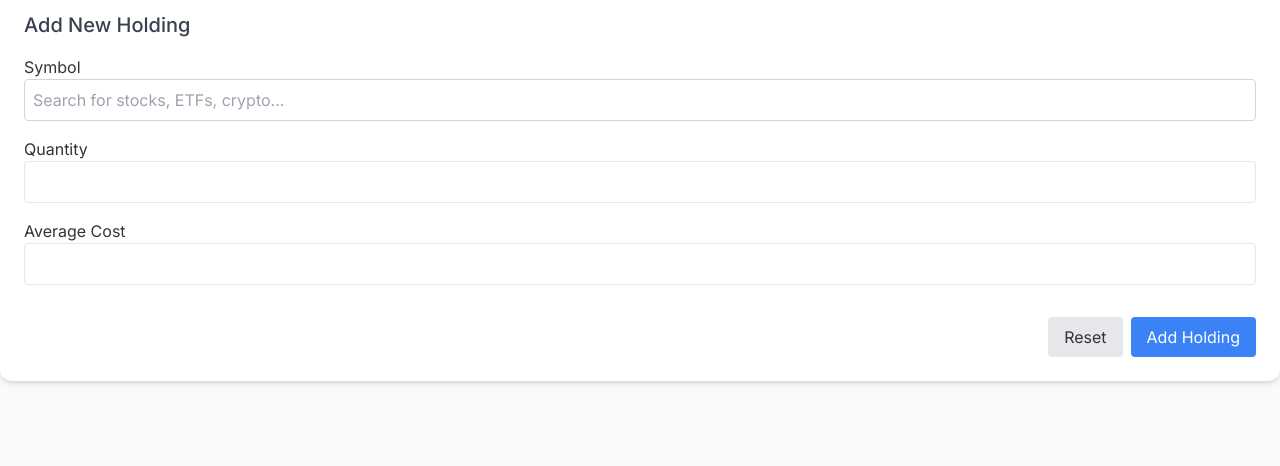
Test: AddHoldingForm › shows validation errors for empty fields
Click the button "Add Holding".
click(1193, 337)  # box x1=1131 y1=317 x2=1256 y2=357
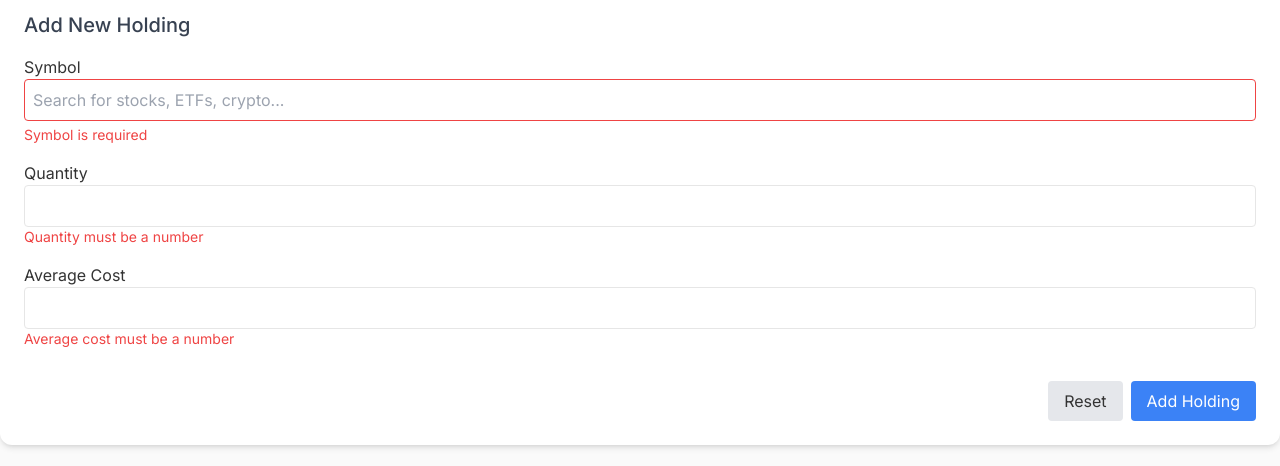
Expected: the text "Symbol is required" is shown, x1=24 y1=126 x2=147 y2=143
Expected: the text "Quantity must be a number" is shown, x1=24 y1=228 x2=204 y2=245
Expected: the text "Average cost must be a number" is shown, x1=24 y1=330 x2=234 y2=347
